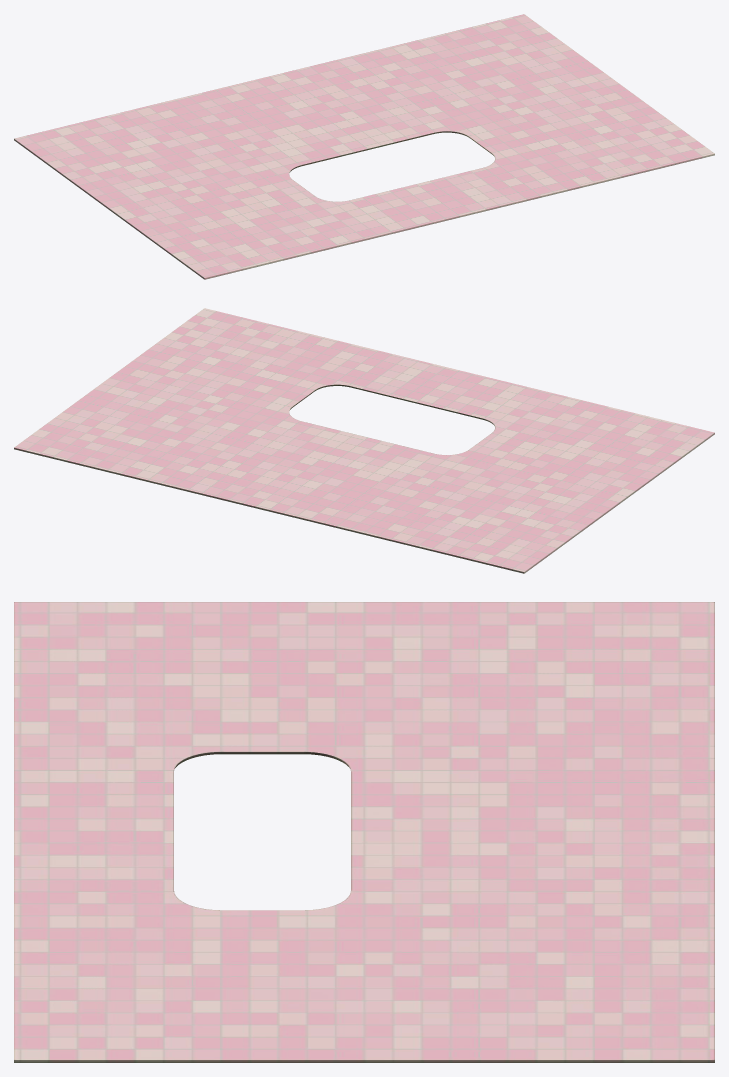
3 views of the same model, one above another, from view 1: azimuth 30°, elevation 25°; view 2: azimuth 150°, elevation 25°; view 3: azimuth 270°, elevation 25° (orthographic). The views are drawn at different scales.
Parts seen in each view (by area): view 1: HORNEADO_suelo; view 2: HORNEADO_suelo; view 3: HORNEADO_suelo.
Part boxes in pixels (x1=…): HORNEADO_suelo: x1=14, y1=14, x2=714, y2=279; HORNEADO_suelo: x1=14, y1=308, x2=714, y2=573; HORNEADO_suelo: x1=14, y1=602, x2=714, y2=1062.
Size of what is drawn, in the model's own units: 34 by 0.1 by 22.
1 material, 1 textured.
